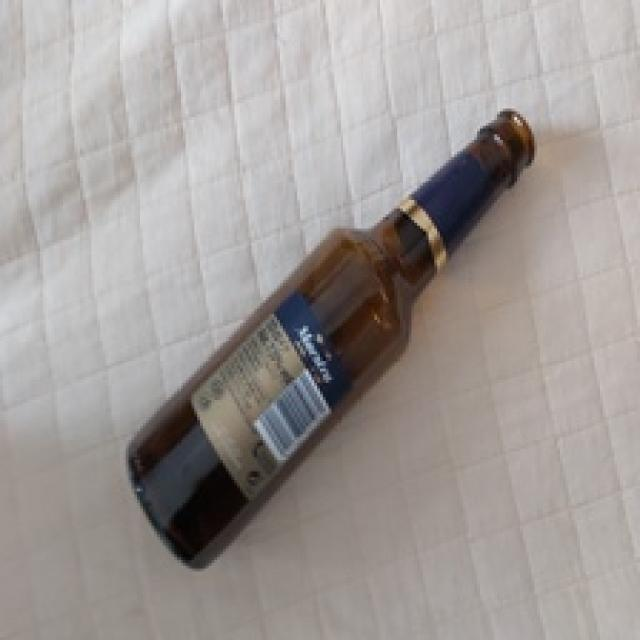glass-bottle: (91, 97, 559, 600)
